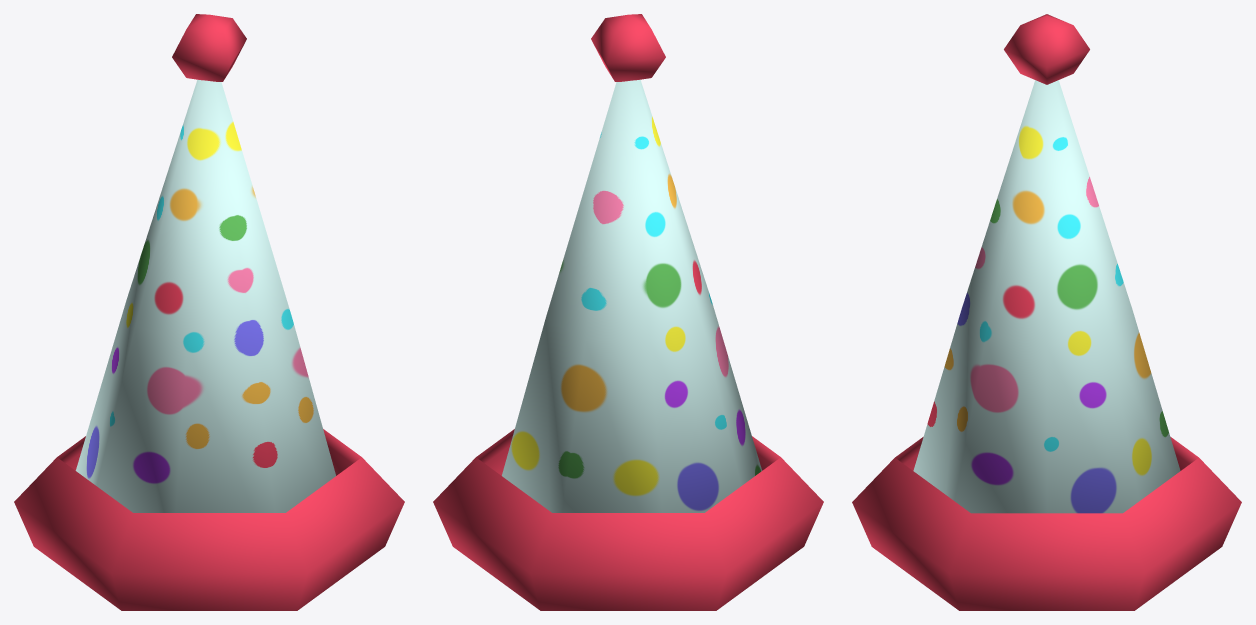
Rendered from party_hat.glb.
3 views of the same model, side by side, from view 1: azimuth 30°, elevation 25°; view 2: azimuth 150°, elevation 25°; view 3: azimuth 270°, elevation 25° (orthographic).
Parts seen in each view (by area): view 1: Cube; view 2: Cube; view 3: Cube.
Part boxes in pixels (x1,y1,x2,y2): Cube: (14,14,404,610); Cube: (433,14,823,610); Cube: (852,14,1241,610).
Size of the model in its own units: 2.4 by 4.16 by 2.77.
1 material, 1 textured.
